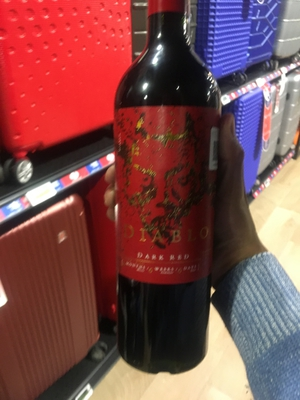diablo dark red: (105, 15, 223, 377)
